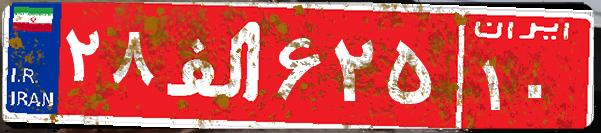0: (525, 38, 570, 115)
1: (475, 38, 525, 113)
2: (330, 28, 385, 110), (57, 26, 110, 107)
5: (385, 28, 445, 110)
6: (273, 28, 330, 110)
8: (110, 28, 158, 105)
الف: (158, 15, 273, 115)
